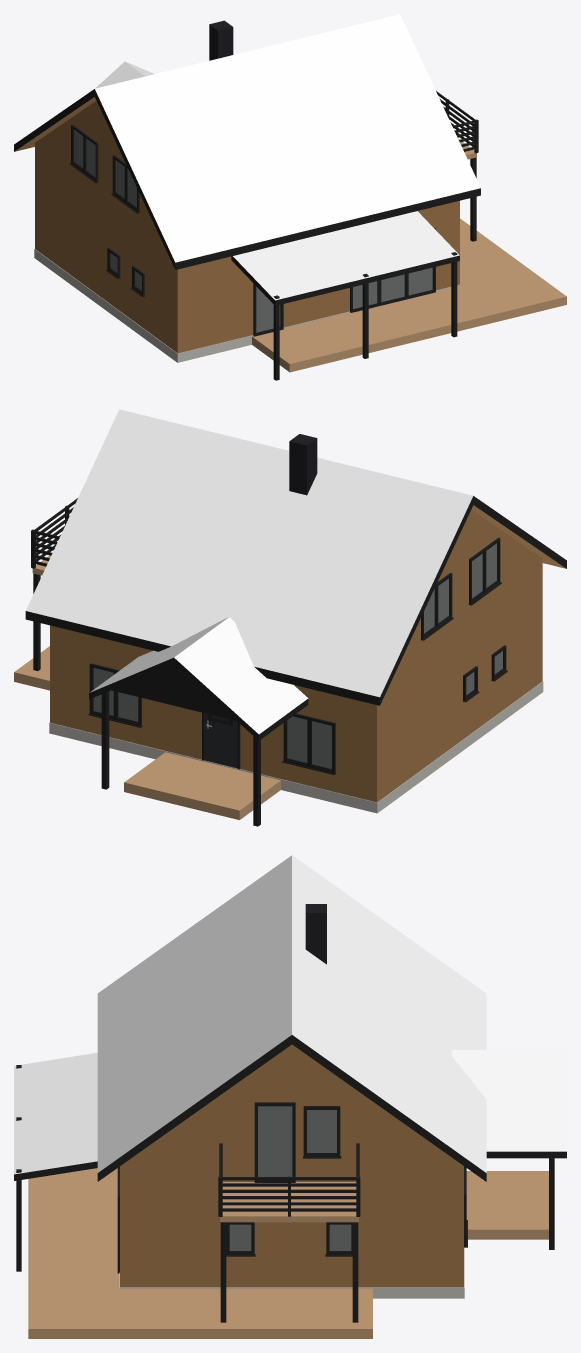
File: hiireviu161_c0_p0_m0.glb
The picture shows the model from 3 angles, top to bottom: view 1: azimuth 30°, elevation 25°; view 2: azimuth 150°, elevation 25°; view 3: azimuth 270°, elevation 25°; orthographic projection. The views are drawn at different scales.
Parts seen in each view (by area): view 1: roof, wall, deck, fascia, glass, curtain, frame, plinth, metal, soffit; view 2: roof, wall, fascia, deck, glass, curtain, plinth, frame, metal, door, soffit; view 3: roof, wall, deck, fascia, glass, curtain, frame, plinth, metal.
Boxes of the visible parts, left/top/right/bottom form: roof: left=95, top=14, right=480, bottom=300; wall: left=35, top=101, right=459, bottom=353; deck: left=252, top=138, right=566, bottom=372; fascia: left=14, top=89, right=480, bottom=380; glass: left=73, top=129, right=432, bottom=332; curtain: left=74, top=129, right=432, bottom=332; frame: left=69, top=124, right=435, bottom=336; plinth: left=34, top=249, right=460, bottom=362; metal: left=209, top=20, right=233, bottom=60; soffit: left=14, top=97, right=96, bottom=151; roof: left=26, top=409, right=472, bottom=734; wall: left=50, top=510, right=542, bottom=802; fascia: left=25, top=496, right=566, bottom=826; deck: left=14, top=555, right=280, bottom=819; glass: left=93, top=543, right=503, bottom=769; curtain: left=93, top=543, right=502, bottom=768; plinth: left=49, top=681, right=543, bottom=813; frame: left=88, top=537, right=507, bottom=774; metal: left=289, top=434, right=317, bottom=495; door: left=204, top=713, right=237, bottom=768; soffit: left=471, top=505, right=566, bottom=568; roof: left=14, top=855, right=566, bottom=1174; wall: left=120, top=1044, right=463, bottom=1287; deck: left=28, top=1168, right=548, bottom=1338; fascia: left=14, top=1035, right=566, bottom=1322; glass: left=229, top=1106, right=351, bottom=1251; curtain: left=229, top=1106, right=351, bottom=1250; frame: left=117, top=1102, right=467, bottom=1273; plinth: left=119, top=1247, right=464, bottom=1298; metal: left=305, top=904, right=326, bottom=964.
Size of the model in its own units: 12.37 by 8.04 by 13.55.
Materials: 12 (5 with a texture image).
